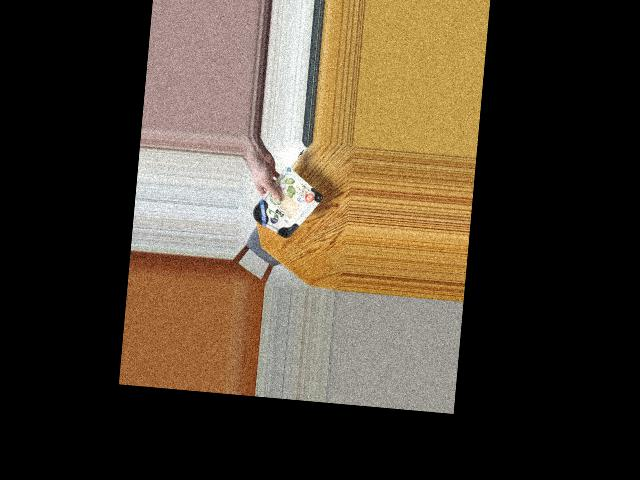cheese: (247, 175, 320, 237)
